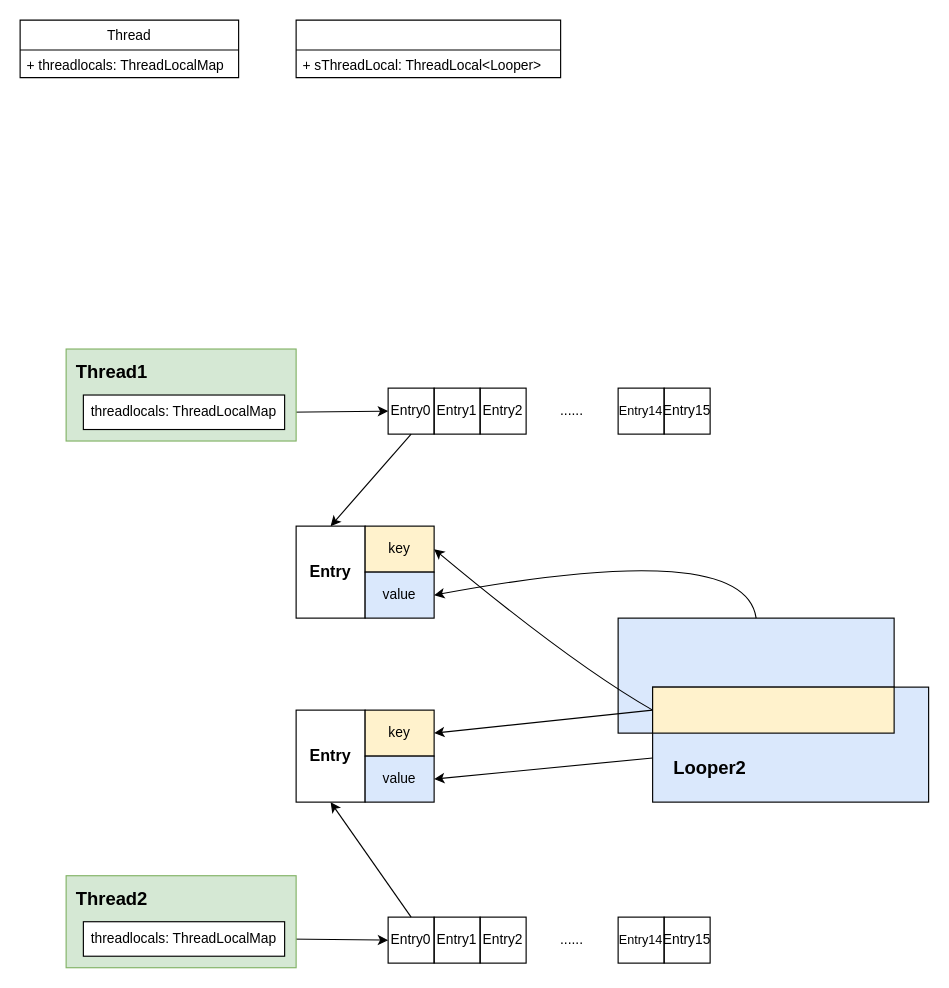
The diagram is 949 pixels wide and 988 high, and some of its shapes have lost their labels. The shapes that lost their labels are listed below. From the top down, each one's box as (x1, y1, x2, y2) in pixels, then its label:
(295, 19, 561, 78): Looper
(617, 617, 894, 733): Looper1
(651, 686, 894, 733): sThreadLocal: ThreadLocal<Looper>
